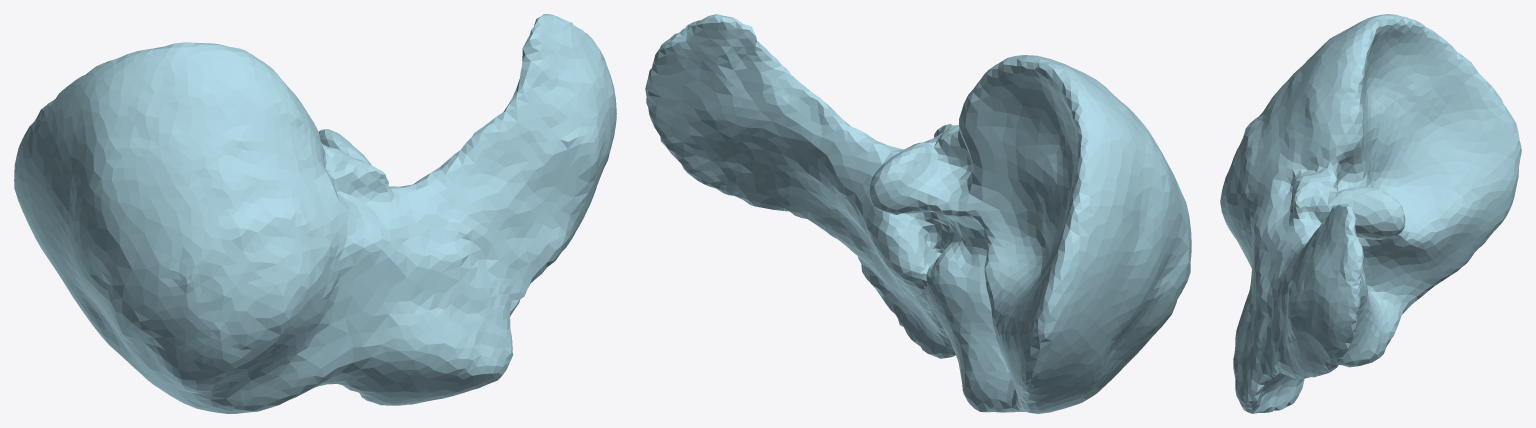
The model's file is liver.obj.
The picture shows the model from 3 angles, left to right: view 1: azimuth 30°, elevation 25°; view 2: azimuth 150°, elevation 25°; view 3: azimuth 270°, elevation 25°; orthographic projection. The views are drawn at different scales.
Visible parts, largest first — view 1: grp1; view 2: grp1; view 3: grp1.
Part boxes in pixels (left/top/right/bottom): grp1: left=14, top=14, right=616, bottom=413; grp1: left=645, top=14, right=1191, bottom=413; grp1: left=1220, top=14, right=1521, bottom=413.
Size of the model in its own units: 266 by 178 by 156.
